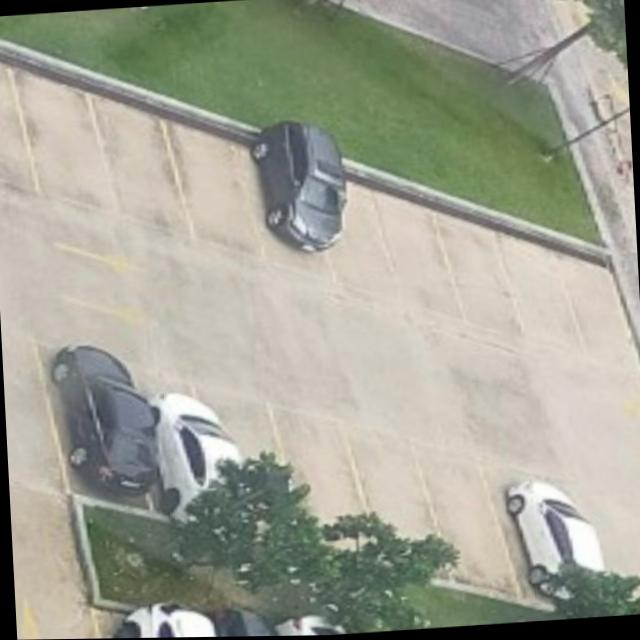car: (51, 345, 158, 495), (507, 482, 612, 601), (251, 123, 346, 253), (149, 393, 240, 524)
freeslot: (255, 391, 389, 570), (398, 431, 530, 606), (4, 59, 123, 223), (78, 84, 195, 246), (153, 112, 269, 269), (363, 184, 469, 332), (427, 206, 535, 351), (488, 226, 594, 362), (547, 243, 640, 375)
